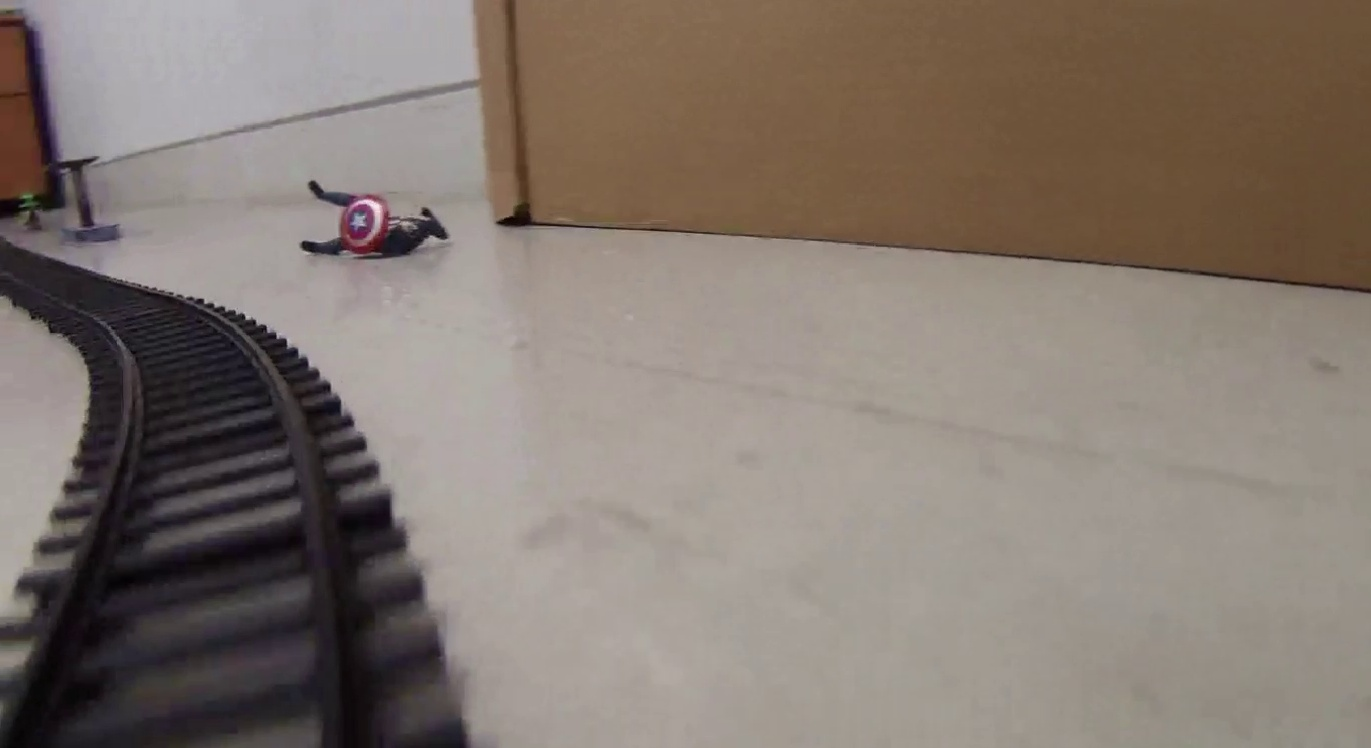people: (300, 178, 447, 260)
